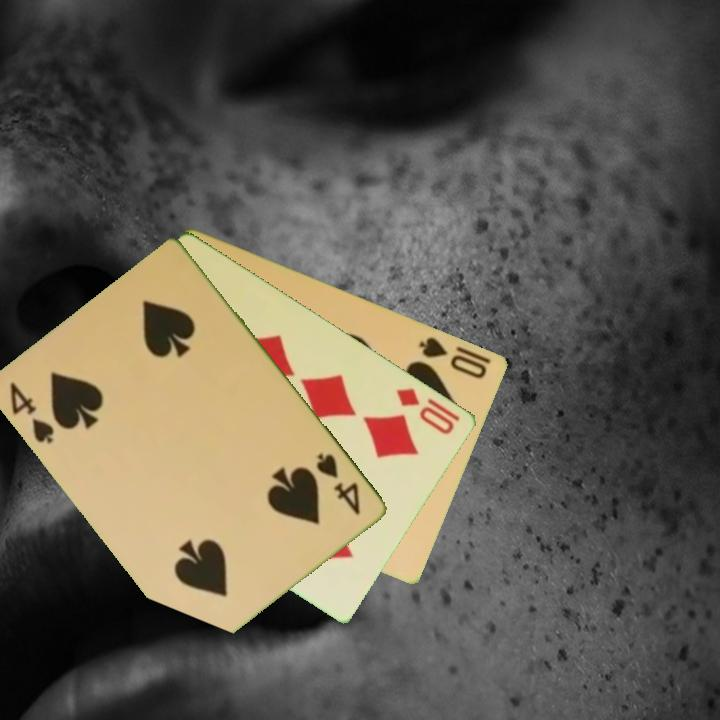10d: (393, 384, 458, 438)
10s: (416, 333, 490, 382)
4s: (6, 378, 58, 447), (313, 449, 364, 518)
